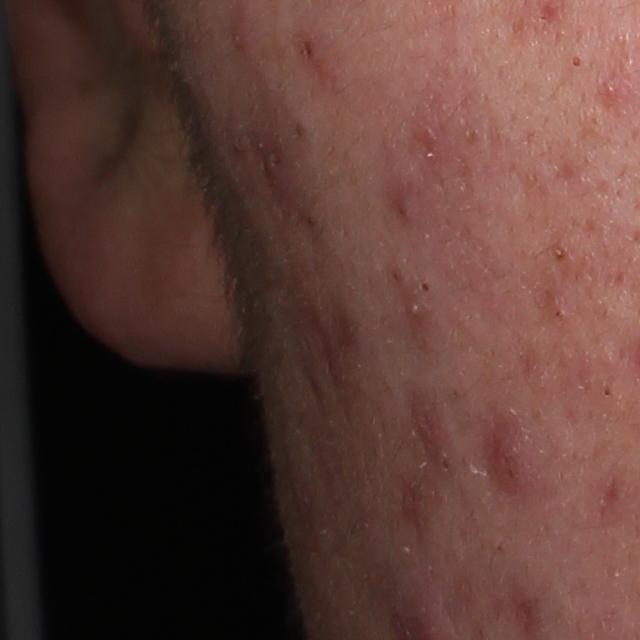comedo: (548, 240, 570, 262), (434, 454, 456, 475), (594, 384, 617, 404), (388, 267, 408, 289), (566, 54, 585, 72), (414, 278, 433, 295)
papule: (487, 435, 537, 494), (229, 5, 254, 56)
